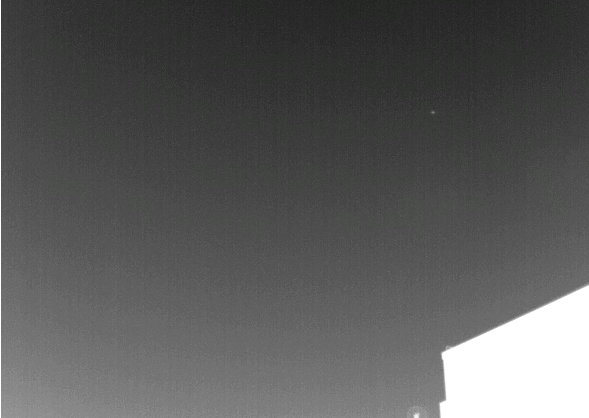dim target: (429, 109, 436, 115)
